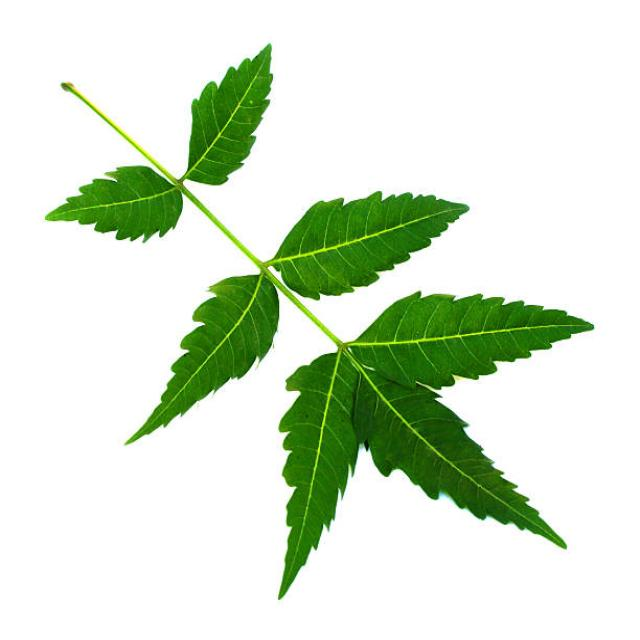Neem-Tree: (47, 45, 592, 596)
